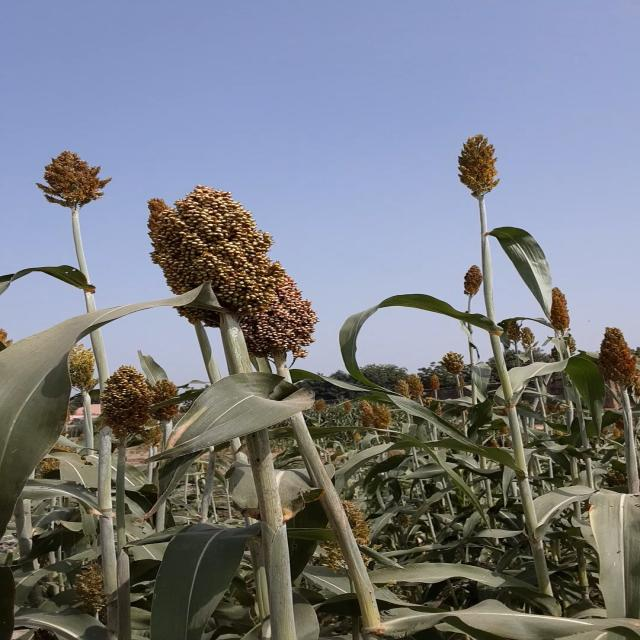UnripeSorghum: (101, 135, 335, 368)
